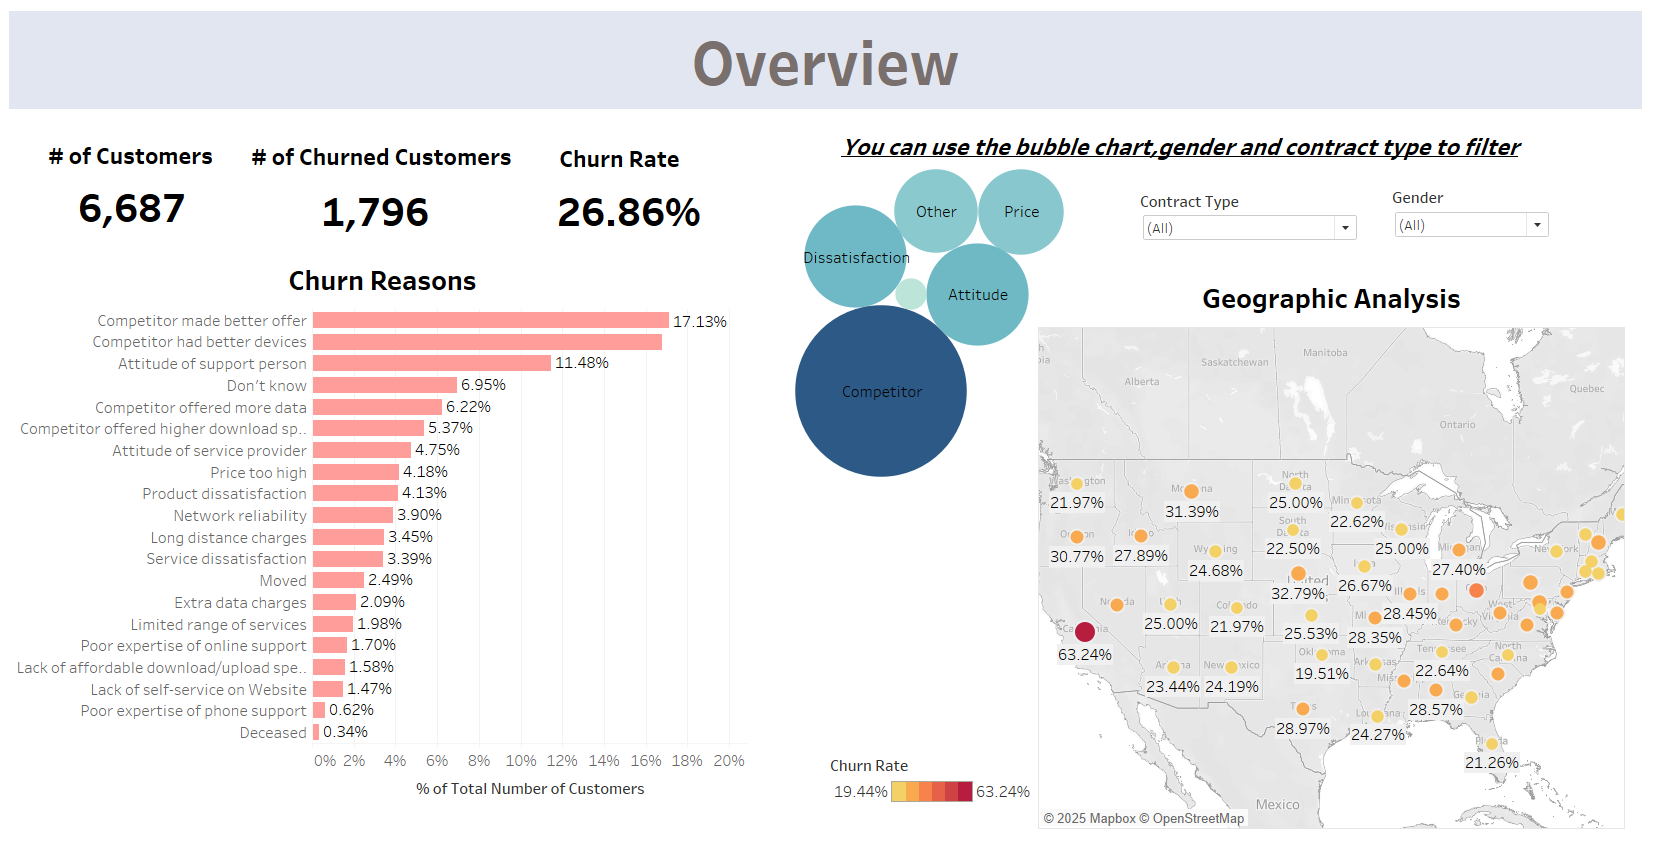

This screenshot's page, from the dashboard's own definition file:
{"tool":"tableau","page":{"name":"Overview","canvas":[1000,1000],"units":"permille","ordinal":2},"visuals":[{"type":"title","box":[4.8,9.4,990.3,124.6]},{"type":"worksheet","title":"Sheet 17","mark":"Automatic","box":[33.8,42.3,44.7,25.9]},{"type":"text","box":[29,146.9,210,71.7]},{"type":"text","box":[507.5,151.6,423.7,42.3]},{"type":"text","box":[151.5,161,274,47]},{"type":"text","box":[337.4,166.9,127.3,40]},{"type":"worksheet","title":"Churns by Category","mark":"Circle","box":[469.5,198.6,281.2,363.1]},{"type":"worksheet","title":"Number of Customers","mark":"Automatic","box":[44.1,211.5,97.8,81.1]},{"type":"worksheet","title":"Number of Churned Customers","mark":"Automatic","box":[190.7,216.2,120.1,79.9]},{"type":"worksheet","title":"Churn Rate","mark":"Automatic","box":[330.7,216.2,150.9,79.9]},{"type":"filter","title":"Sheet 17","param":"[federated.1df3qus1ghblhc1dpikp010hw947].[none:Gender:nk]","box":[841.9,220.9,96.6,81.1]},{"type":"filter","title":"Sheet 17","param":"[federated.1df3qus1ghblhc1dpikp010hw947].[none:Contract Type:nk]","box":[689.8,225.6,132.8,61.1]},{"type":"worksheet","title":"Churn Reasons","mark":"Automatic","rows":["Churn Reason"],"box":[11.5,303.2,442.4,645.1]},{"type":"worksheet","title":"Geographic Analysis","mark":"Automatic","box":[628.2,324.3,354.2,651]},{"type":"legend","title":"Geographic Analysis","param":"[federated.1df3qus1ghblhc1dpikp010hw947].[usr:Calculation_1407656418300891140:qk","box":[502.7,888.4,123.7,103.4]}]}

Visuals, with their boxes on the dashboard's canvas, which has no fixed pixel size, in thousandths of its width and height (x1, y1, x2, y2). These are canvas units, not pixel positions in the 1654x849 screenshot, which may show the page scaled, cropped or inside an application window:
title: 5,9,995,134
"Sheet 17" worksheet: 34,42,78,68
text: 29,147,239,219
text: 508,152,931,194
text: 152,161,426,208
text: 337,167,465,207
"Churns by Category" worksheet (Circle marks): 470,199,751,562
"Number of Customers" worksheet: 44,212,142,293
"Number of Churned Customers" worksheet: 191,216,311,296
"Churn Rate" worksheet: 331,216,482,296
"Sheet 17" filter: 842,221,938,302
"Sheet 17" filter: 690,226,823,287
"Churn Reasons" worksheet: 12,303,454,948
"Geographic Analysis" worksheet: 628,324,982,975
"Geographic Analysis" legend: 503,888,626,992
